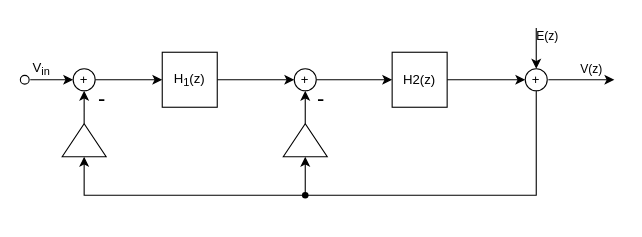
The diagram is 642 pixels wide and 237 high, and some of its shapes have lost their labels. The centre of each missing label's shape, as x and y in pixels:
b 2: (x=304, y=140)
b1: (x=83, y=140)
